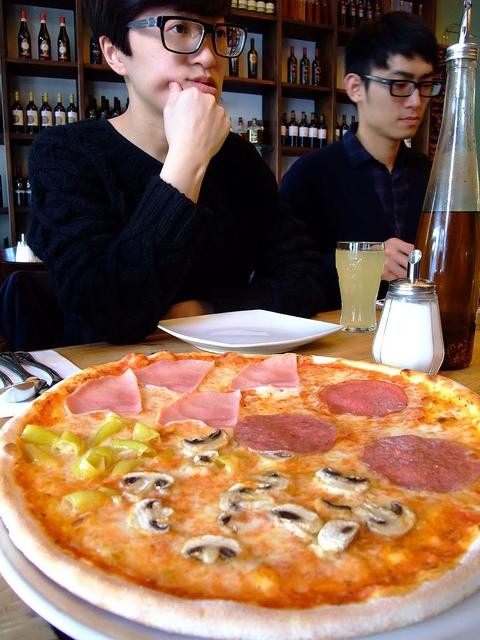mushroom: (355, 500, 417, 538), (268, 502, 324, 538), (180, 534, 244, 564), (118, 471, 174, 503), (219, 482, 275, 512), (132, 498, 174, 534), (314, 467, 372, 492), (318, 518, 360, 552), (181, 429, 229, 454), (314, 496, 352, 518), (250, 471, 288, 490), (216, 512, 237, 534), (193, 450, 218, 466)
